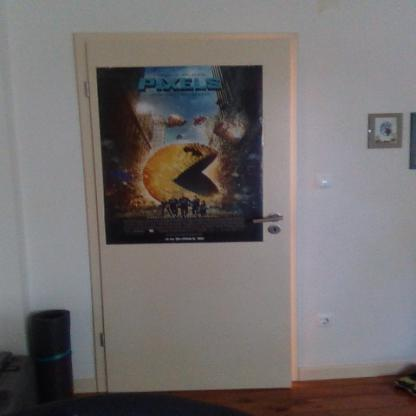door: (85, 42, 293, 388)
hinged: (84, 80, 93, 100), (98, 332, 108, 348)
lever: (252, 212, 284, 226)
